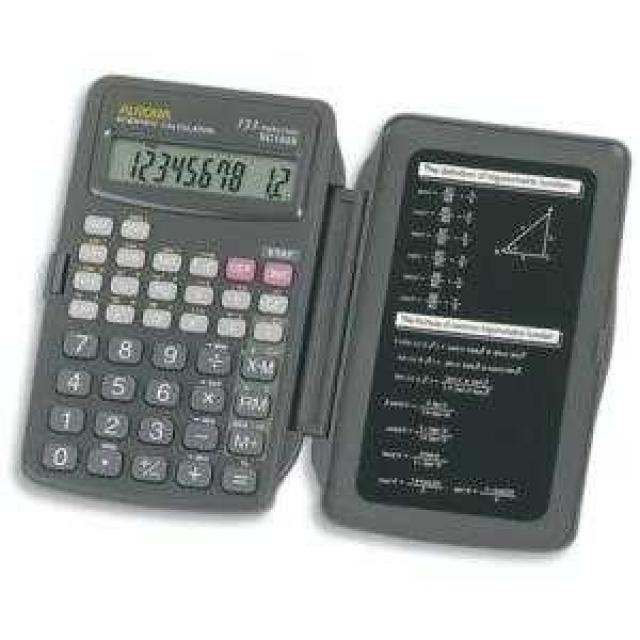Calculator: (19, 73, 348, 512)
